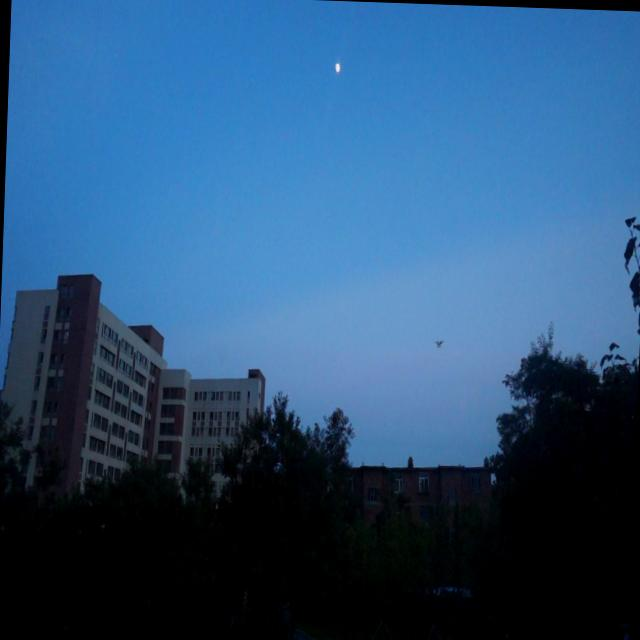drone: (434, 334, 444, 351)
